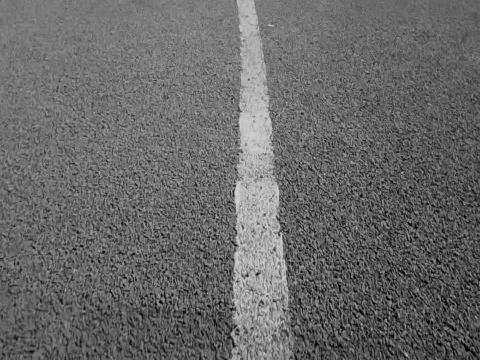Lines: (233, 0, 299, 360)
